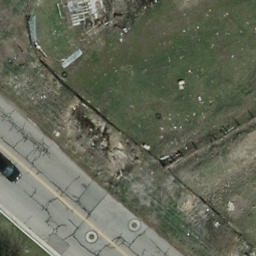car: (0, 147, 24, 184)
